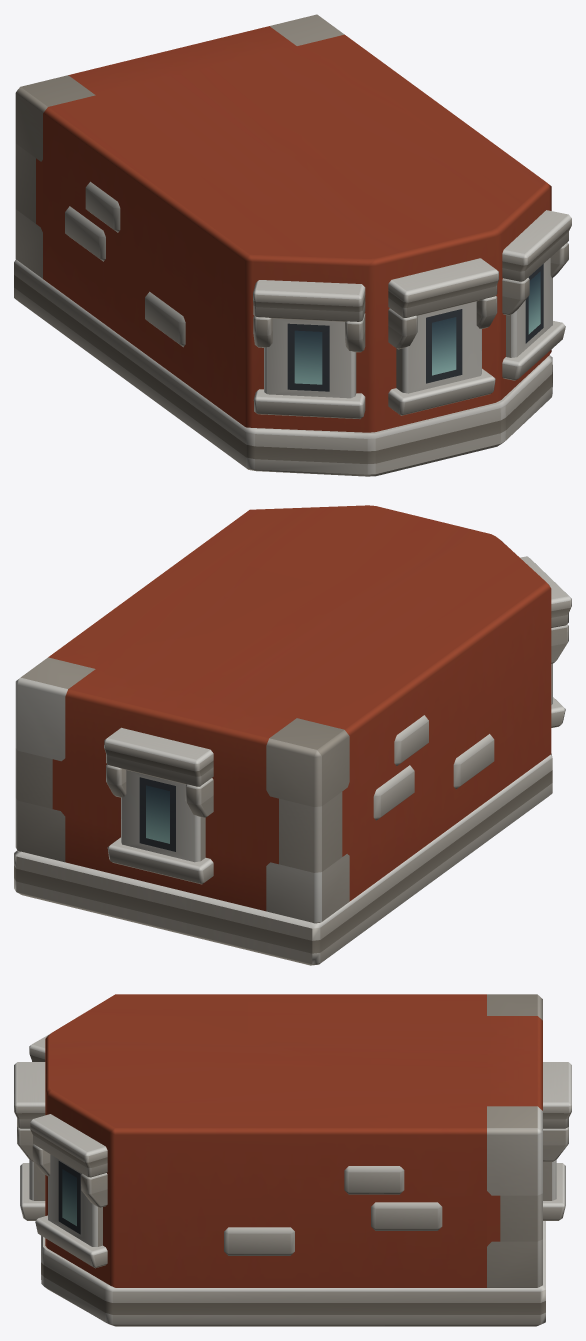
File: appartment_type4_element_red.fbx
3 renders of one model, top to bottom at view 1: azimuth 30°, elevation 25°; view 2: azimuth 150°, elevation 25°; view 3: azimuth 270°, elevation 25°, orthographic. The views are drawn at different scales.
Parts seen in each view (by area): view 1: appartment_type4_element_red; view 2: appartment_type4_element_red; view 3: appartment_type4_element_red.
Boxes of the visible parts, <box> form: appartment_type4_element_red: <box>14,14,571,476</box>; appartment_type4_element_red: <box>14,505,571,965</box>; appartment_type4_element_red: <box>14,994,571,1326</box>.
Bounding box in the file's own units: 630 × 409 × 1043.
